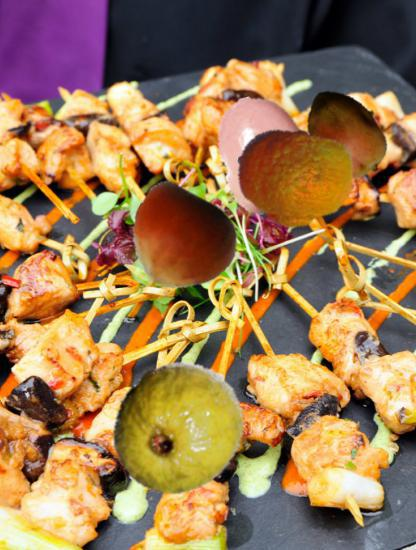Guava: (108, 358, 248, 498)
Kaki: (207, 94, 325, 212)
Mandarine: (235, 119, 355, 239)
Nut: (127, 188, 236, 297)
Papaya: (296, 84, 395, 183)
